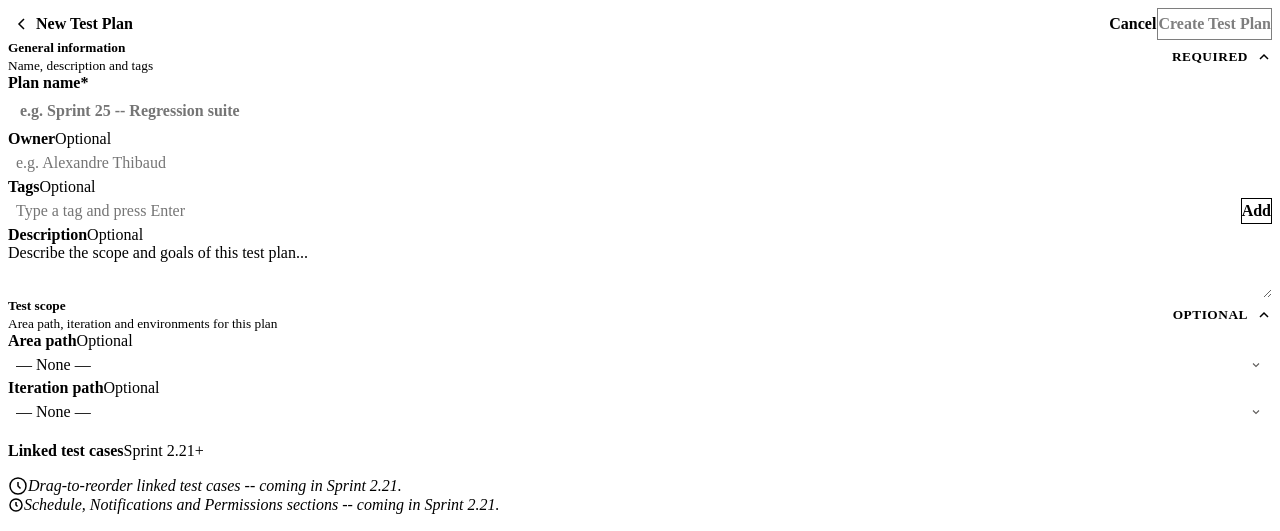
Test: TestPlanFormView (Sprint 2.18) › Create button is enabled when plan name is filled
Type "My Plan" into the field labelled "Plan name *" at {"x": 640, "y": 111}, box [8,92,1272,130]
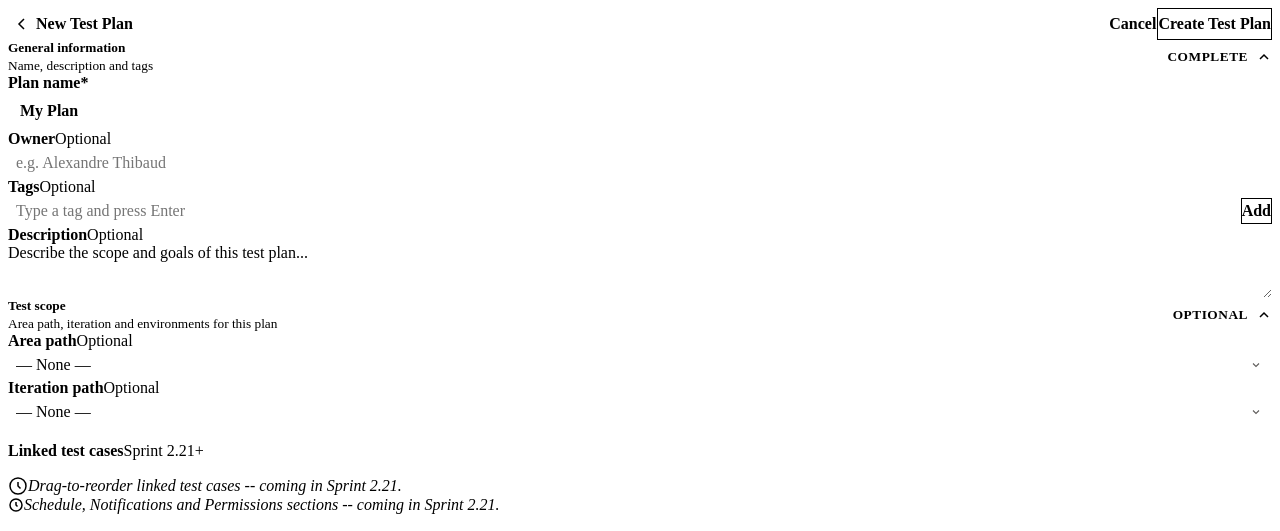
Now the button "Create Test Plan" is enabled, box [1157,8,1272,40]
